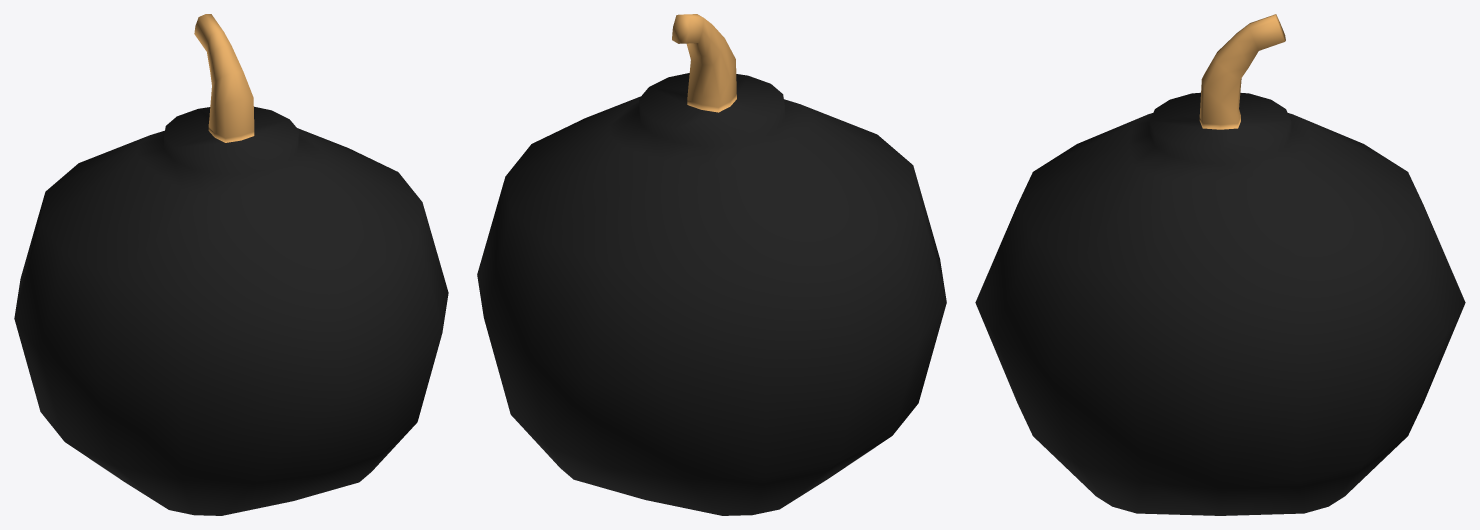
The model's file is Bomb.fbx.
3 renders of one model, left to right at view 1: azimuth 30°, elevation 25°; view 2: azimuth 150°, elevation 25°; view 3: azimuth 270°, elevation 25°, orthographic. The views are drawn at different scales.
Parts seen in each view (by area): view 1: Bomb; view 2: Bomb; view 3: Bomb.
Boxes of the visible parts, x1,y1,x2,y2 form: Bomb: [14, 14, 448, 515]; Bomb: [477, 14, 946, 515]; Bomb: [975, 14, 1465, 515].
Size of the model in its own units: 2.01 by 2.11 by 2.11.
